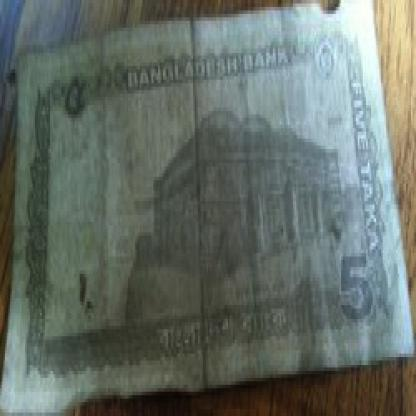Five Taka: (331, 239, 380, 333), (53, 62, 93, 132)
